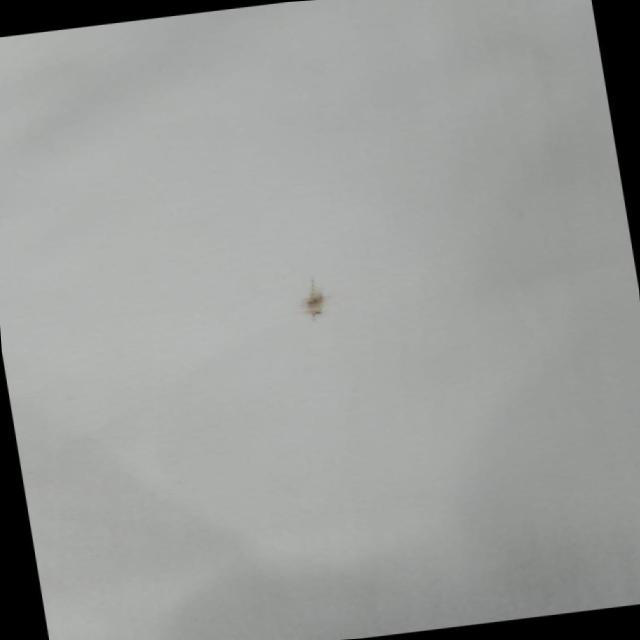stain: (276, 269, 352, 334)
